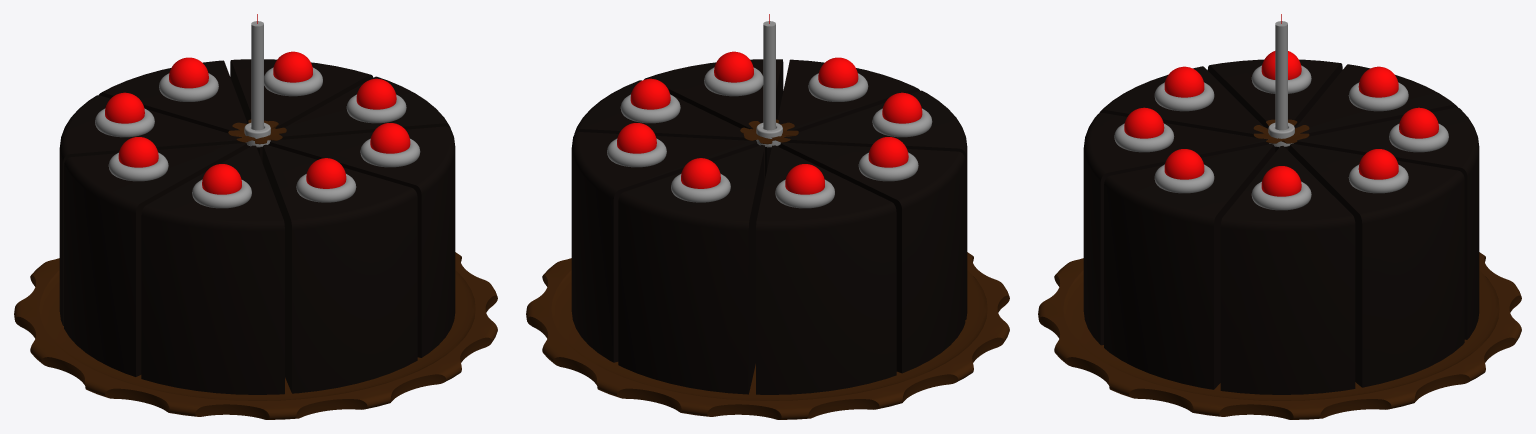
File: cake.FBX
The picture shows the model from 3 angles, left to right: view 1: azimuth 30°, elevation 25°; view 2: azimuth 150°, elevation 25°; view 3: azimuth 270°, elevation 25°; orthographic projection.
Visible parts, largest first — view 1: Cake_cake_outside3, Cake_plate, Cake_cherry7, Cake_cream6, Cake_cake_inside, Cake_candle_candle2, Cake_candle_flower; view 2: Cake_cake_outside3, Cake_plate, Cake_cherry7, Cake_cream6, Cake_cake_inside, Cake_candle_candle2, Cake_candle_flower; view 3: Cake_cake_outside3, Cake_plate, Cake_cake_inside, Cake_cream6, Cake_cherry7, Cake_candle_candle2, Cake_candle_flower.
Boxes of the visible parts, x1,y1,x2,y2 form: Cake_cake_outside3: (59,59,455,394); Cake_plate: (14,252,497,419); Cake_cherry7: (105,51,410,194); Cake_cream6: (95,67,420,208); Cake_cake_inside: (63,60,450,392); Cake_candle_candle2: (251,21,263,130); Cake_candle_flower: (228,119,286,144); Cake_cake_outside3: (571,59,967,394); Cake_plate: (526,252,1009,419); Cake_cherry7: (617,51,922,194); Cake_cream6: (607,67,932,208); Cake_cake_inside: (574,59,966,393); Cake_candle_candle2: (763,21,775,130); Cake_candle_flower: (740,119,798,144); Cake_cake_outside3: (1083,59,1479,394); Cake_plate: (1038,252,1521,419); Cake_cake_inside: (1099,63,1467,389); Cake_cream6: (1114,65,1448,210); Cake_cherry7: (1124,51,1438,196); Cake_candle_candle2: (1275,21,1287,130); Cake_candle_flower: (1253,119,1309,143).
Bounding box in the file's own units: 123 × 85.17 × 122.
